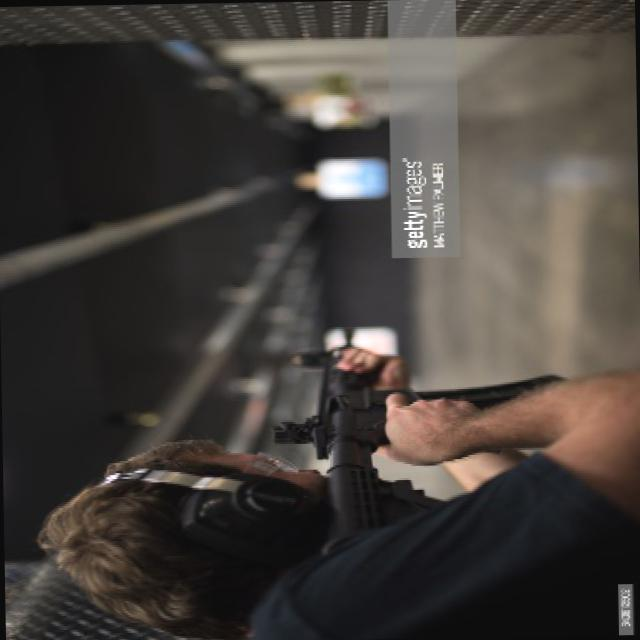long weapon: (283, 324, 560, 538)
